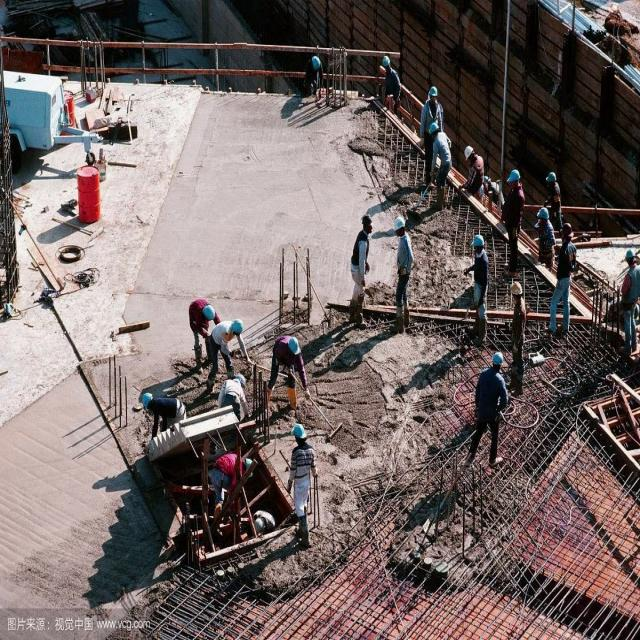head_helmet: (288, 337, 302, 356), (560, 222, 575, 238), (232, 315, 244, 334), (491, 350, 505, 366), (391, 214, 405, 230), (142, 390, 152, 412), (292, 422, 306, 437), (509, 281, 524, 294), (428, 120, 440, 136), (235, 372, 247, 386), (471, 233, 485, 245), (464, 144, 474, 160), (255, 516, 265, 532), (536, 207, 549, 219), (311, 56, 320, 72), (483, 173, 492, 189), (205, 306, 216, 319), (623, 248, 637, 258), (382, 53, 391, 68), (508, 170, 520, 180), (246, 456, 253, 472), (428, 84, 439, 94), (546, 172, 557, 180)
person: (288, 415, 318, 543), (477, 351, 510, 466), (266, 338, 308, 409), (549, 222, 576, 331), (347, 219, 376, 319), (506, 278, 531, 391), (208, 317, 245, 385), (618, 247, 640, 357), (468, 233, 490, 342), (427, 122, 453, 208), (216, 452, 253, 511), (189, 296, 218, 364), (394, 214, 411, 329), (422, 87, 442, 179), (504, 170, 522, 271), (142, 388, 190, 421), (221, 370, 253, 417), (463, 144, 486, 200), (382, 54, 403, 110), (536, 208, 555, 266), (545, 167, 562, 227), (483, 168, 505, 213), (306, 53, 323, 95), (252, 506, 278, 533)
shoes: (295, 518, 312, 550), (354, 301, 367, 331), (474, 320, 487, 348), (389, 314, 405, 335)
